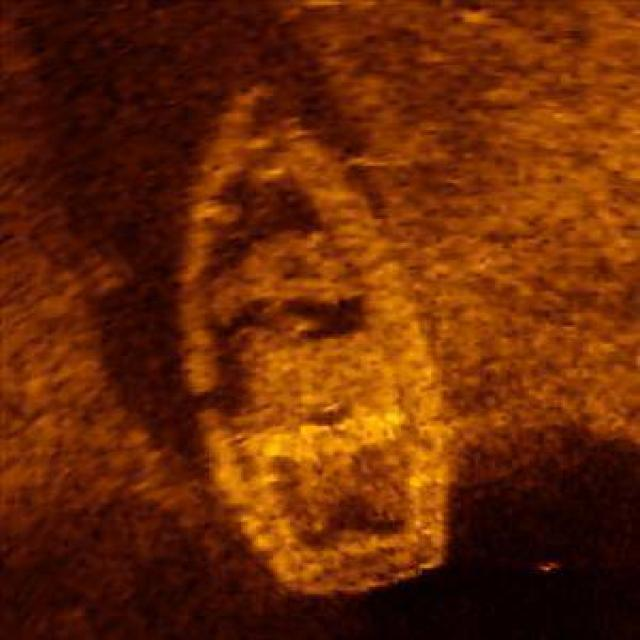ship: (168, 74, 463, 600)
